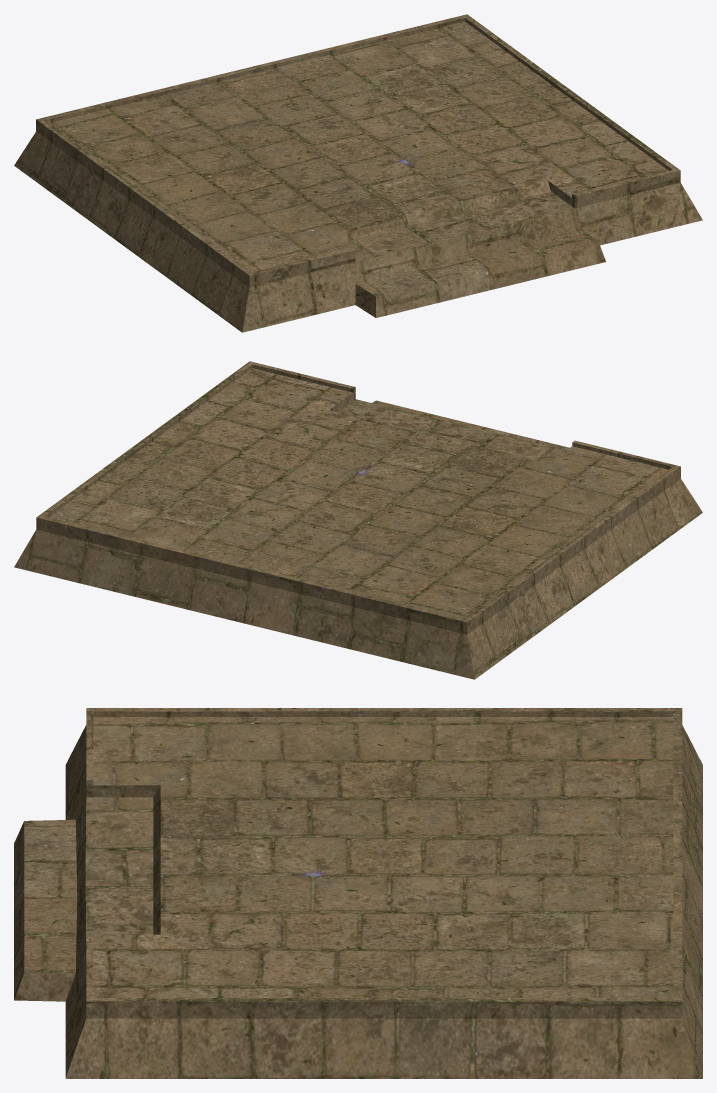
File: podium-transformed.glb
The picture shows the model from 3 angles, top to bottom: view 1: azimuth 30°, elevation 25°; view 2: azimuth 150°, elevation 25°; view 3: azimuth 270°, elevation 25°; orthographic projection. The views are drawn at different scales.
Visible parts, largest first — view 1: PodiumLarge_PodiumLarge_Material_0; view 2: PodiumLarge_PodiumLarge_Material_0; view 3: PodiumLarge_PodiumLarge_Material_0.
Part boxes in pixels (box(x1,y1,x2,y2)): PodiumLarge_PodiumLarge_Material_0: box(14, 14, 702, 332); PodiumLarge_PodiumLarge_Material_0: box(14, 361, 702, 679); PodiumLarge_PodiumLarge_Material_0: box(14, 708, 702, 1078).
Size of the model in its own units: 20.53 by 2.05 by 19.04.
Materials: 1 (1 with a texture image).
